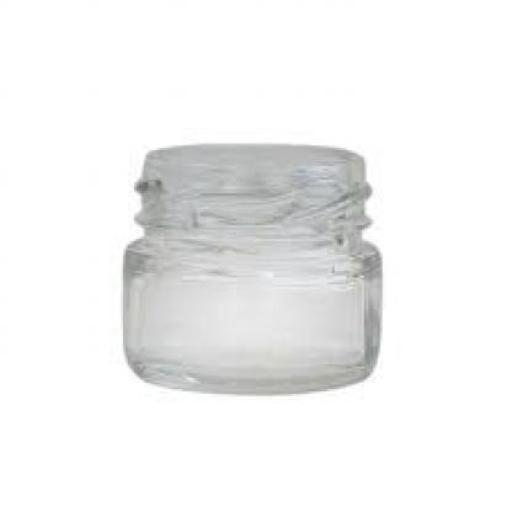glass: (120, 143, 382, 391)
